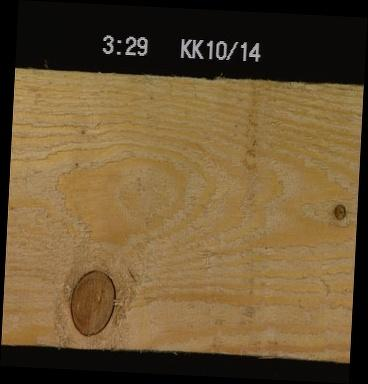dry_knot: (67, 266, 117, 338), (330, 200, 347, 221)
